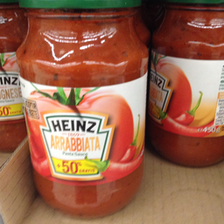tomato_sauce: (15, 1, 149, 218), (148, 1, 224, 170)
